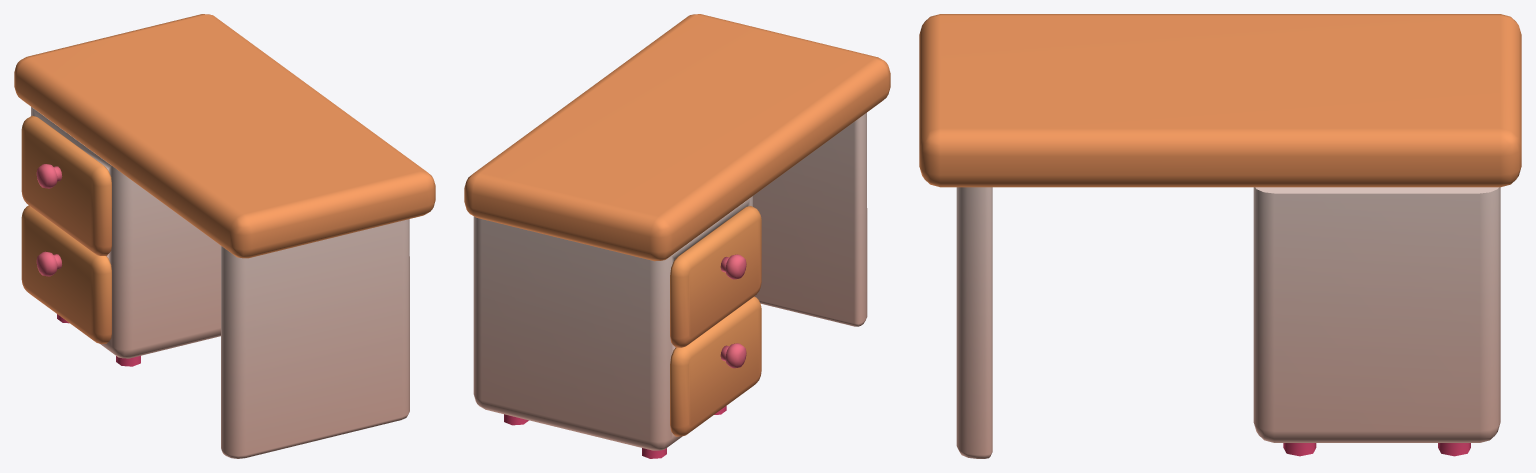
The model's file is Work_Table_02.fbx.
The picture shows the model from 3 angles, left to right: view 1: azimuth 30°, elevation 25°; view 2: azimuth 150°, elevation 25°; view 3: azimuth 270°, elevation 25°; orthographic projection. The views are drawn at different scales.
Parts seen in each view (by area): view 1: Work_Table_02; view 2: Work_Table_02; view 3: Work_Table_02.
Boxes of the visible parts, x1,y1,x2,y2 form: Work_Table_02: (14, 14, 435, 458); Work_Table_02: (464, 14, 890, 458); Work_Table_02: (919, 14, 1521, 458).
Size of the model in its own units: 147 by 156 by 257.
Materials: 1 (1 with a texture image).
